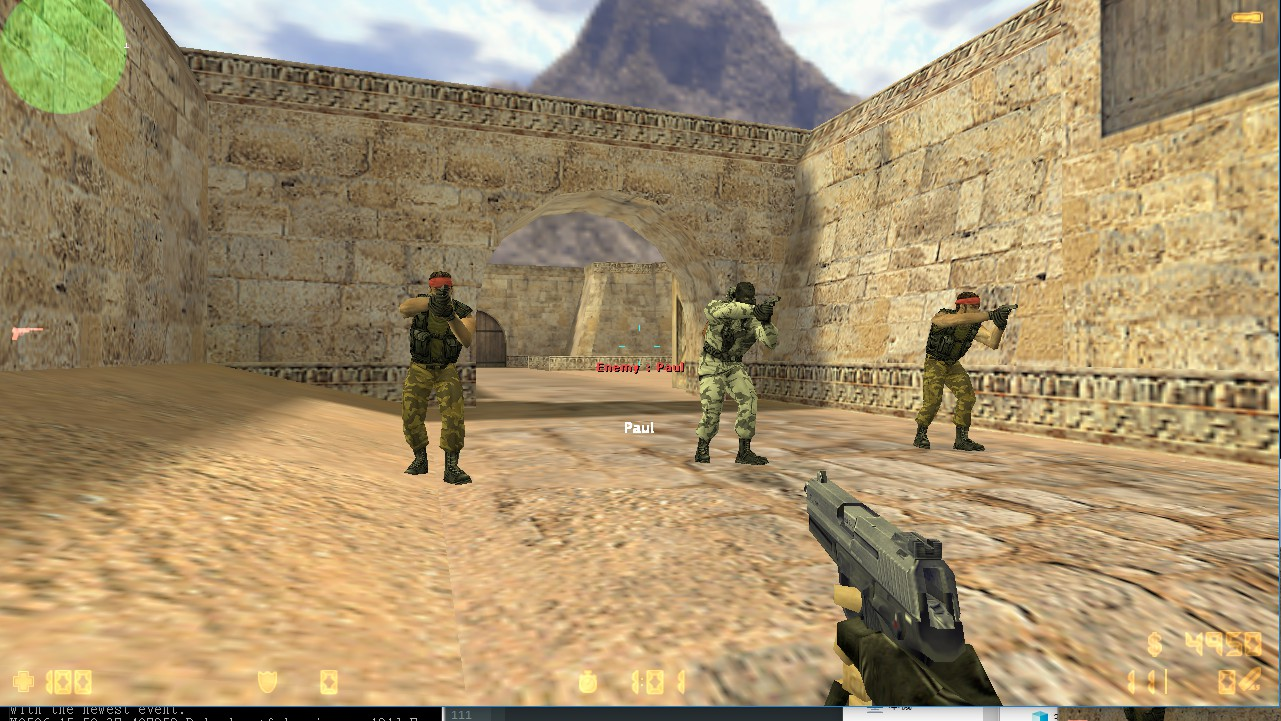person: (389, 263, 492, 502), (703, 276, 781, 479), (909, 280, 992, 459)
